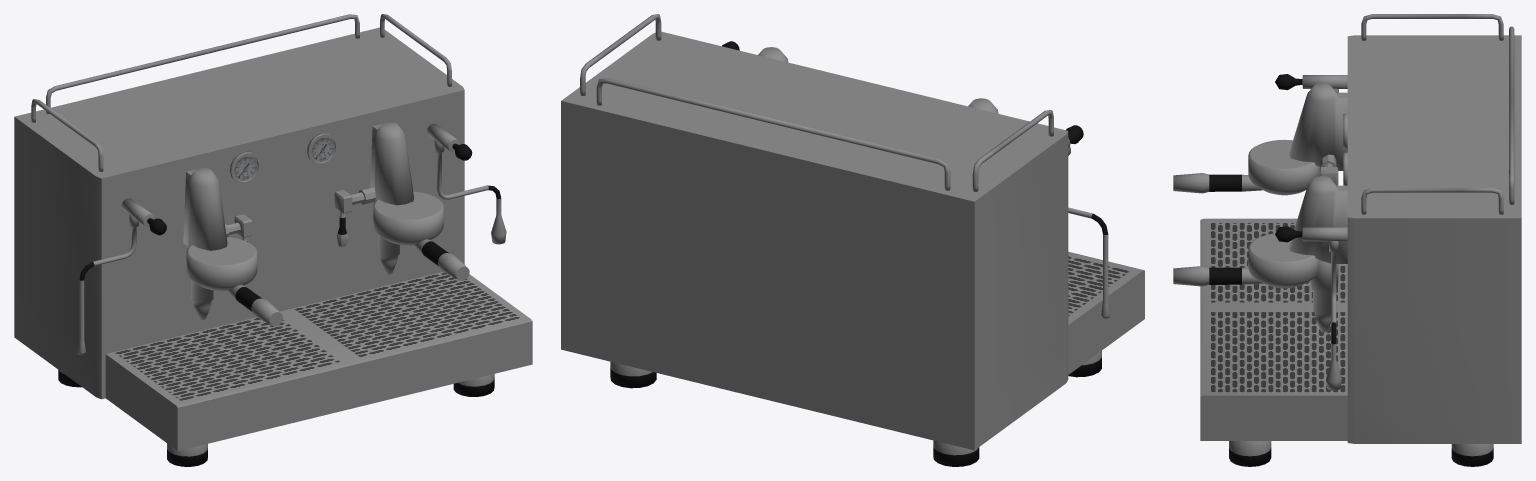
The model's file is scopia-coffee_machine.glb.
3 views of the same model, side by side, from view 1: azimuth 30°, elevation 25°; view 2: azimuth 150°, elevation 25°; view 3: azimuth 270°, elevation 25° (orthographic). The views are drawn at different scales.
Parts seen in each view (by area): view 1: coffee_machine; view 2: coffee_machine; view 3: coffee_machine.
Boxes of the visible parts, x1,y1,x2,y2 form: coffee_machine: [14, 14, 532, 466]; coffee_machine: [561, 14, 1144, 466]; coffee_machine: [1173, 14, 1521, 466].
Bounding box in the file's own units: 58.19 × 36.38 × 40.24.
2 materials, 1 textured.
